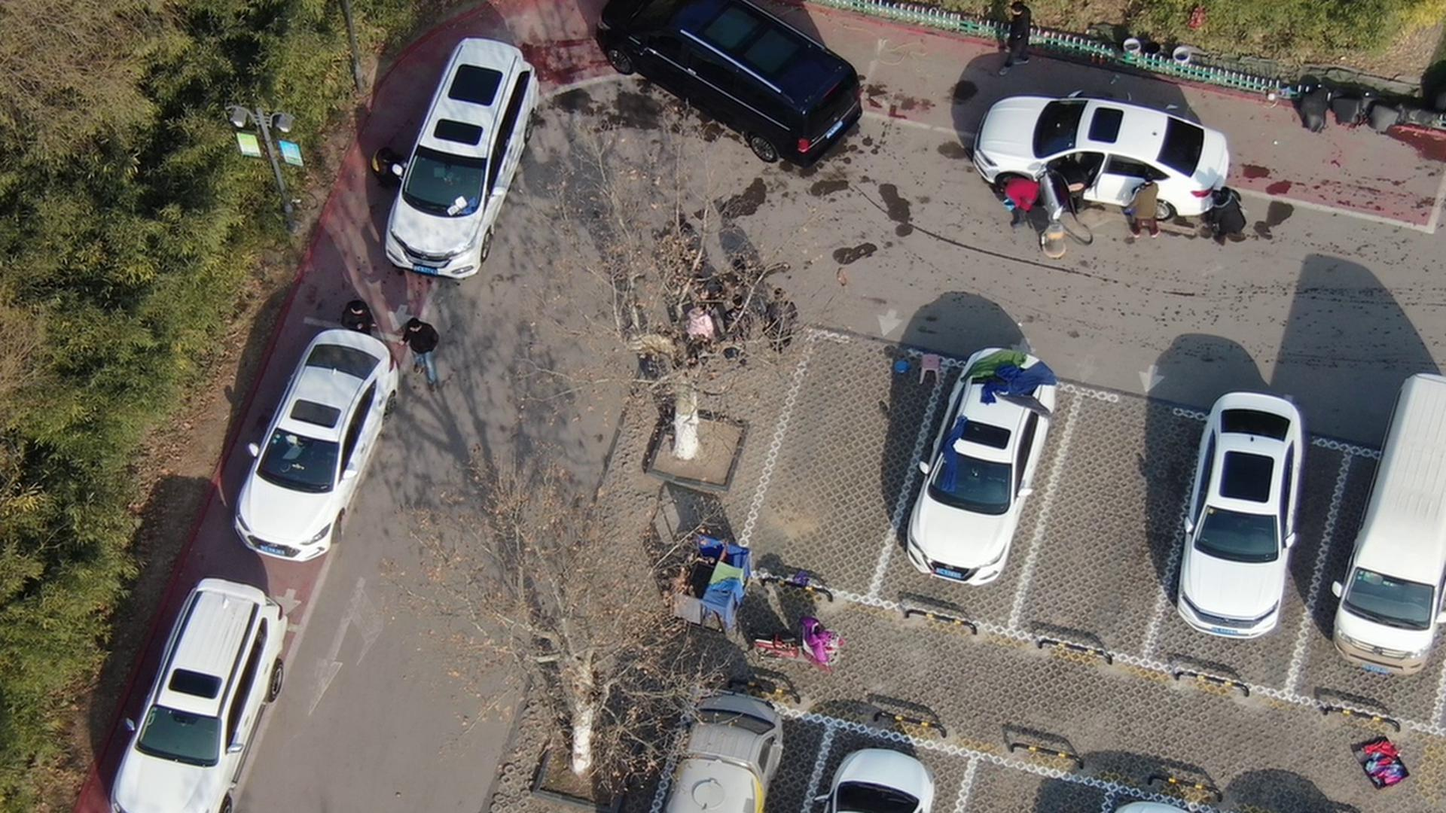human: (401, 313, 449, 389), (760, 283, 802, 368), (722, 290, 761, 371), (995, 172, 1049, 226), (1130, 167, 1170, 239), (1005, 1, 1039, 75), (1213, 178, 1252, 241), (369, 143, 415, 192), (1065, 151, 1099, 213), (342, 298, 384, 342)
